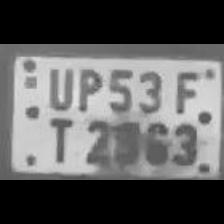2: (78, 115, 110, 167)
3: (168, 116, 198, 168), (133, 67, 165, 113)
5: (102, 65, 134, 113)
6: (139, 116, 169, 168)
F: (168, 67, 200, 113)
P: (72, 66, 104, 114)
T: (42, 113, 76, 164)
U: (43, 63, 75, 111)
